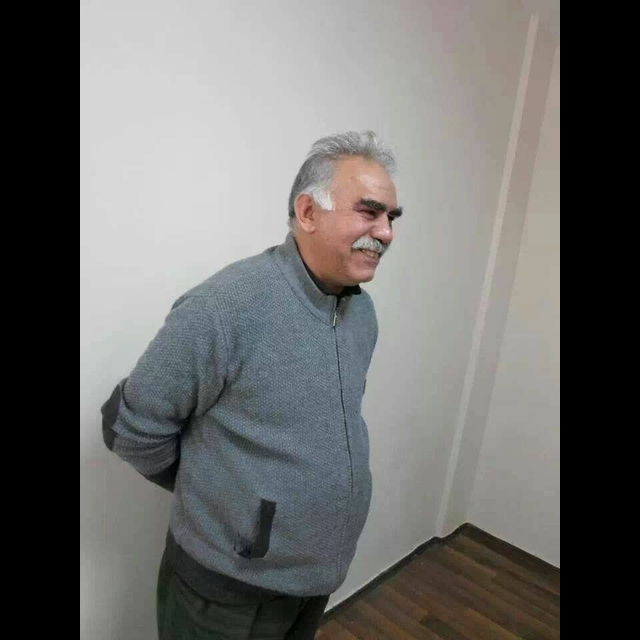APO: (284, 125, 404, 313)
